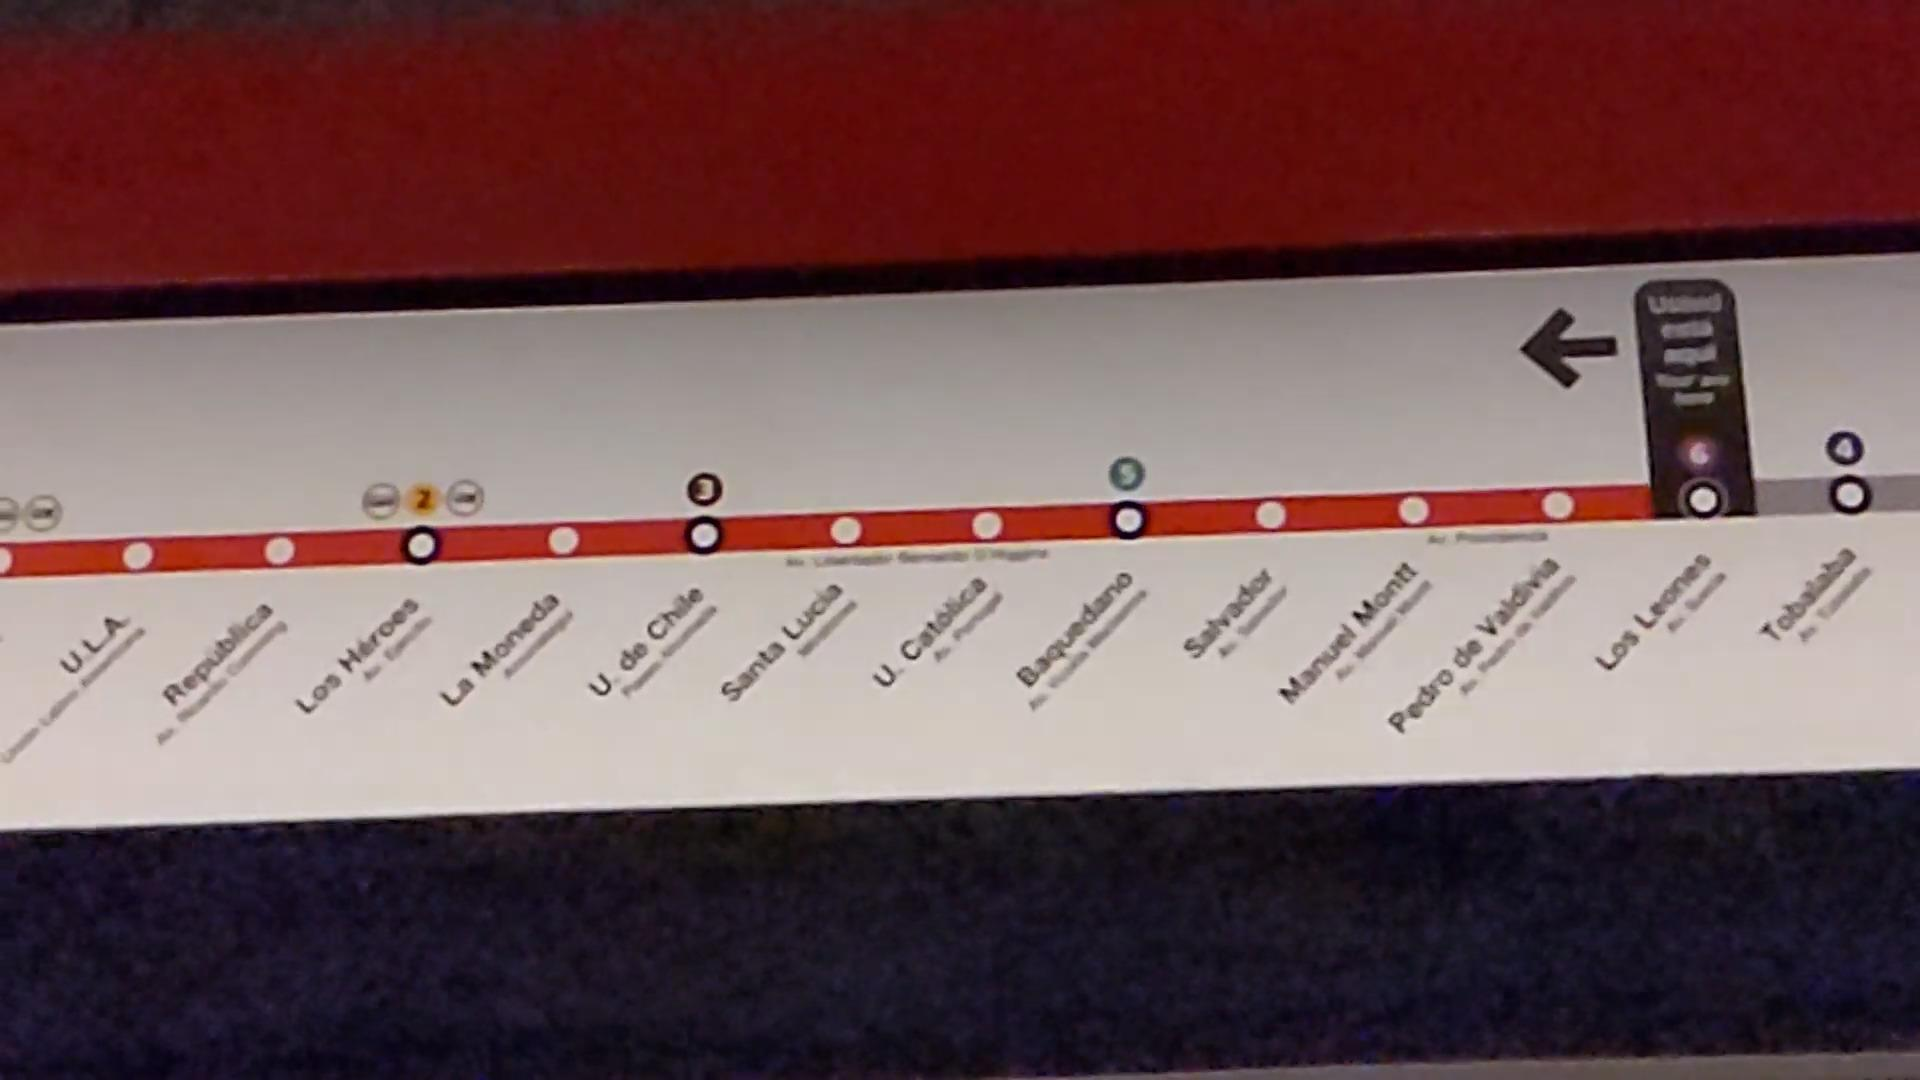left arrow: (1514, 302, 1625, 398)
